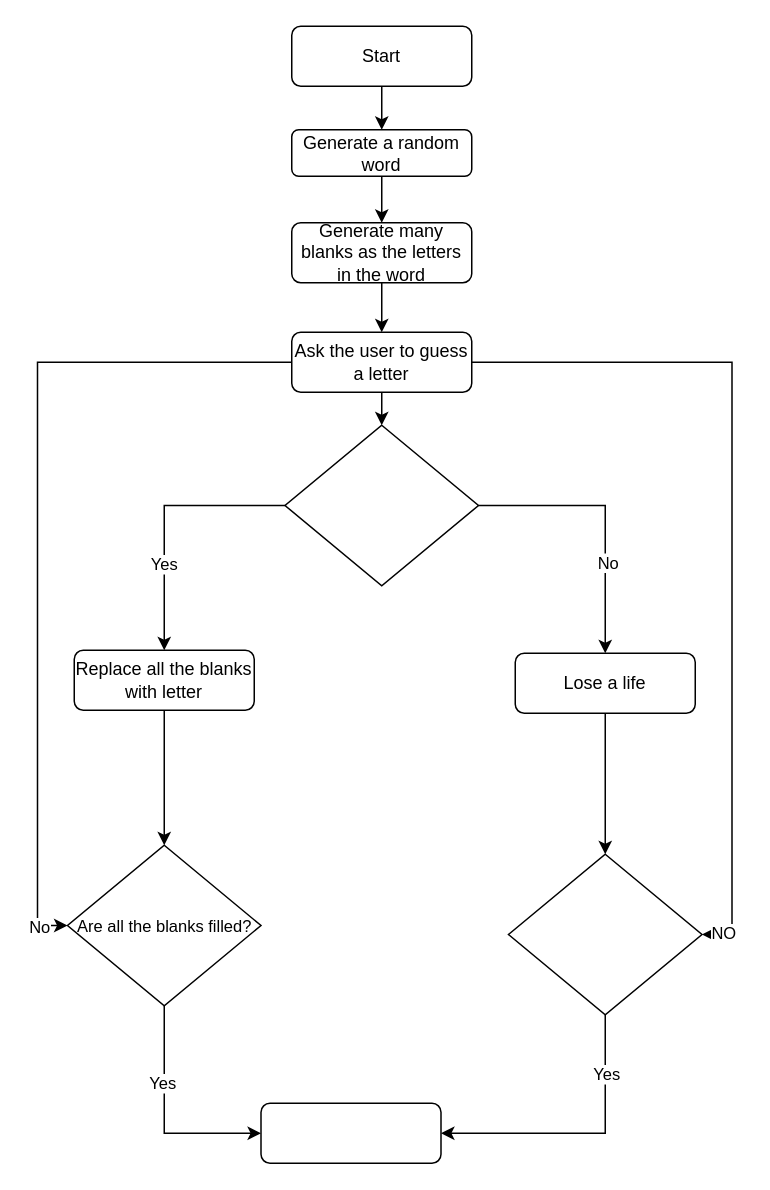
The diagram is 770 pixels wide and 1190 high, and some of its shapes have lost their labels. The shapes that lost their labels are listed below. From the top down, each one's box as (x1, y1, x2, y2) in pixels, then its label:
(284, 424, 478, 586): Is the guessed letter in the word
(507, 853, 702, 1015): Have they run out of lfe?
(260, 1102, 441, 1163): Game Over
